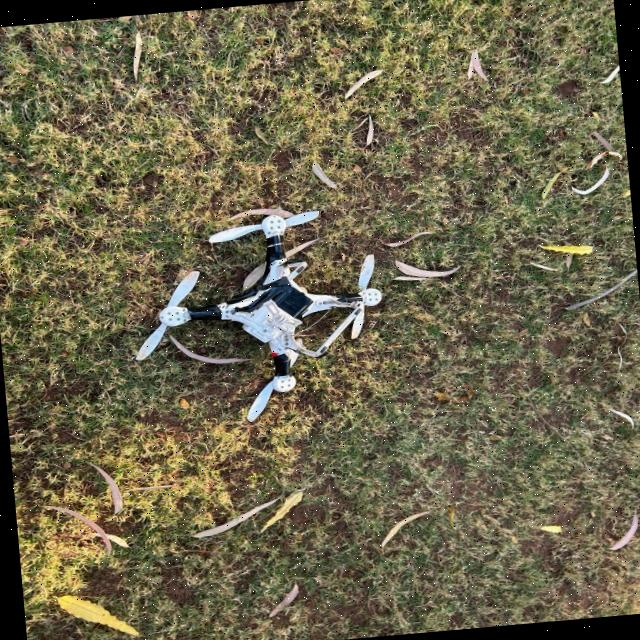drone: (136, 196, 398, 408)
